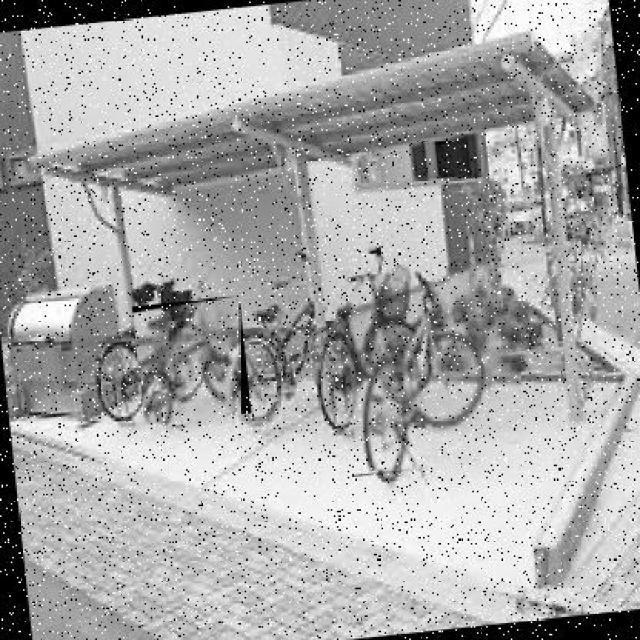bicycle: (332, 261, 529, 478), (131, 296, 253, 427)
